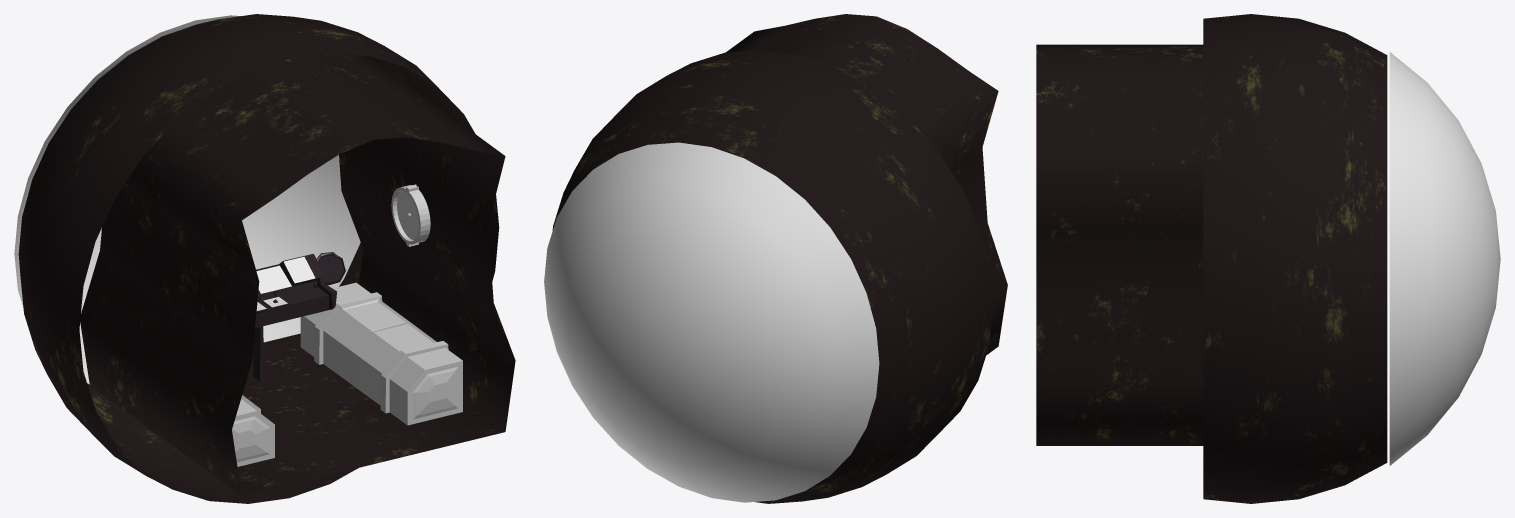
The model's file is sub-cockpit final.fbx.
The picture shows the model from 3 angles, left to right: view 1: azimuth 30°, elevation 25°; view 2: azimuth 150°, elevation 25°; view 3: azimuth 270°, elevation 25°; orthographic projection. The views are drawn at different scales.
Visible parts, largest first — view 1: Cube.005, Sphere.001, Cube.004, Sphere, Plane.001, Cube, Cylinder.008, Cylinder.002; view 2: Sphere, Sphere.001, Cube.005; view 3: Sphere.001, Cube.005, Sphere.
Boxes of the visible parts, x1,y1,x2,y2 form: Cube.005: (80, 53, 515, 496); Sphere.001: (18, 14, 499, 503); Cube.004: (232, 282, 462, 466); Sphere: (14, 15, 360, 384); Plane.001: (242, 336, 370, 422); Cube: (253, 254, 336, 381); Cylinder.008: (391, 184, 430, 246); Cylinder.002: (316, 252, 345, 285); Sphere: (544, 142, 879, 502); Sphere.001: (552, 50, 992, 503); Cube.005: (726, 14, 1007, 354); Sphere.001: (1203, 14, 1387, 503); Cube.005: (1036, 44, 1203, 445); Sphere: (1389, 52, 1500, 465).
Bounding box in the file's own units: 580 × 580 × 550.
